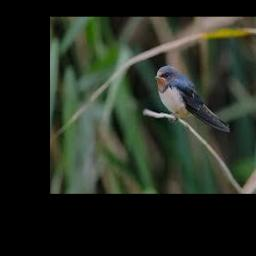Swallow: (156, 66, 232, 132)
